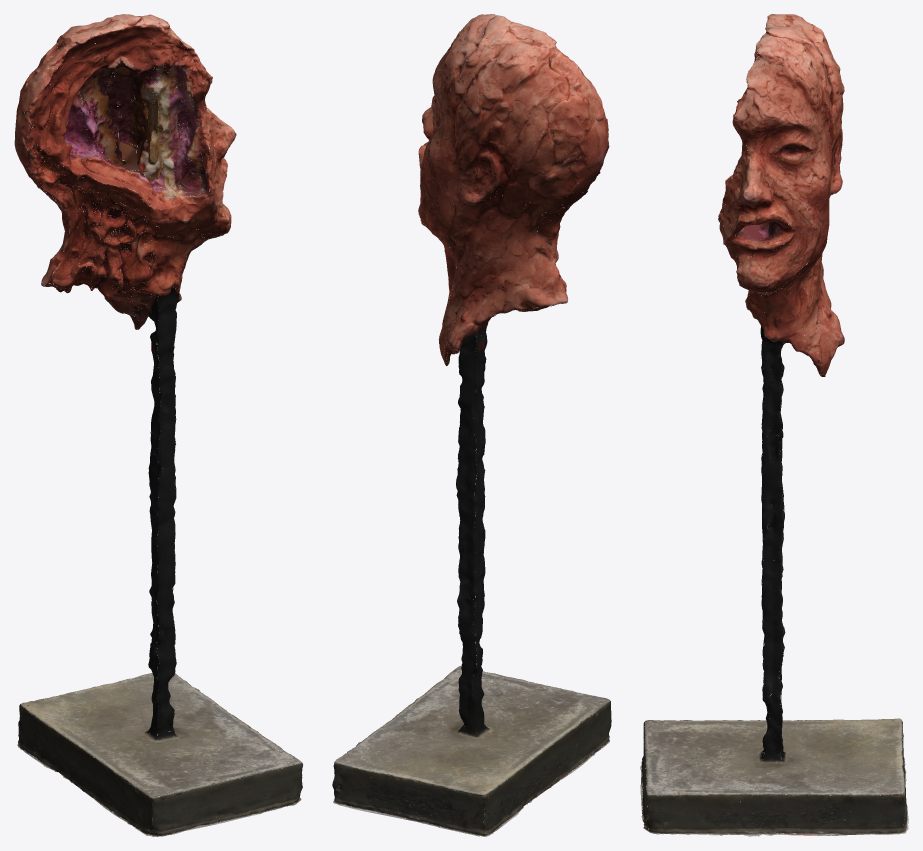
The model's file is tallufan.glb.
3 views of the same model, side by side, from view 1: azimuth 30°, elevation 25°; view 2: azimuth 150°, elevation 25°; view 3: azimuth 270°, elevation 25° (orthographic).
Visible parts, largest first — view 1: Mesh_0_Part_0; view 2: Mesh_0_Part_0; view 3: Mesh_0_Part_0.
Boxes of the visible parts, left/top/right/bottom form: Mesh_0_Part_0: left=14, top=14, right=302, bottom=836; Mesh_0_Part_0: left=332, top=14, right=611, bottom=836; Mesh_0_Part_0: left=640, top=14, right=908, bottom=836.
Size of the model in its own units: 1.87 by 6.23 by 2.01.
1 material, 1 textured.
